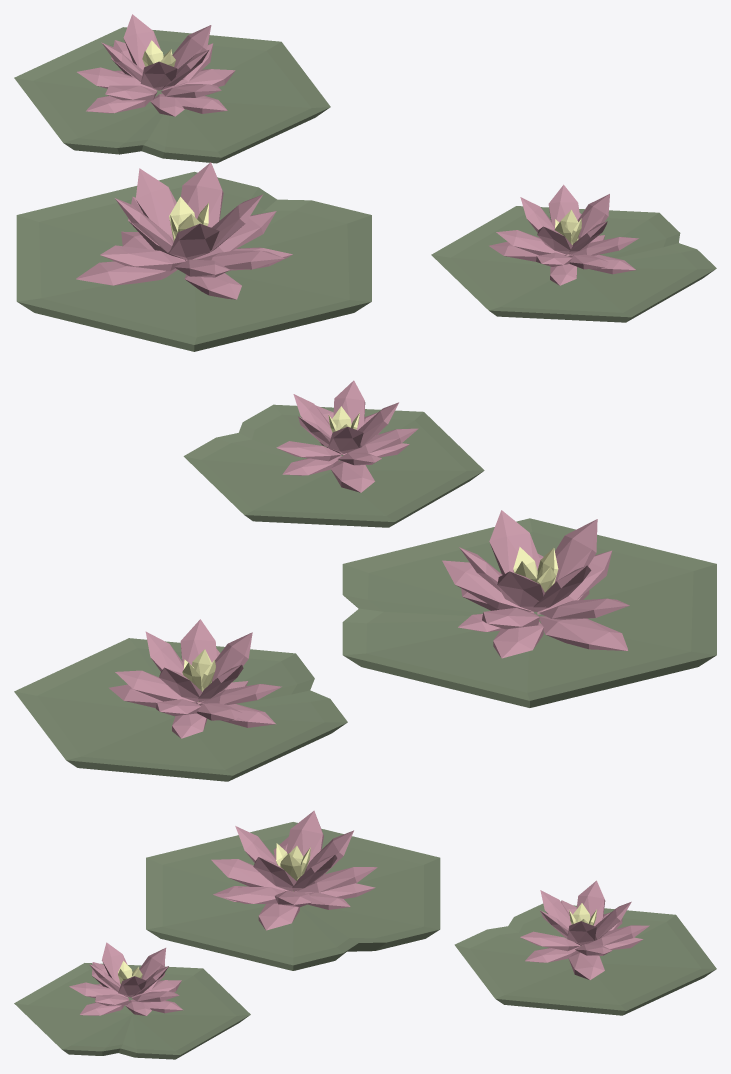
The model's file is WaterLilyOld2.fbx.
3 views of the same model, one above another, from view 1: azimuth 30°, elevation 25°; view 2: azimuth 150°, elevation 25°; view 3: azimuth 270°, elevation 25° (orthographic). The views are drawn at different scales.
Visible parts, largest first — view 1: pCylinder5; view 2: pCylinder5; view 3: pCylinder5.
Boxes of the visible parts, box(x1,y1,x2,y2) form: pCylinder5: box(14, 14, 716, 351); pCylinder5: box(14, 380, 716, 781); pCylinder5: box(14, 810, 716, 1059).
Size of the model in its own units: 1.07 by 0.1473 by 1.36.
